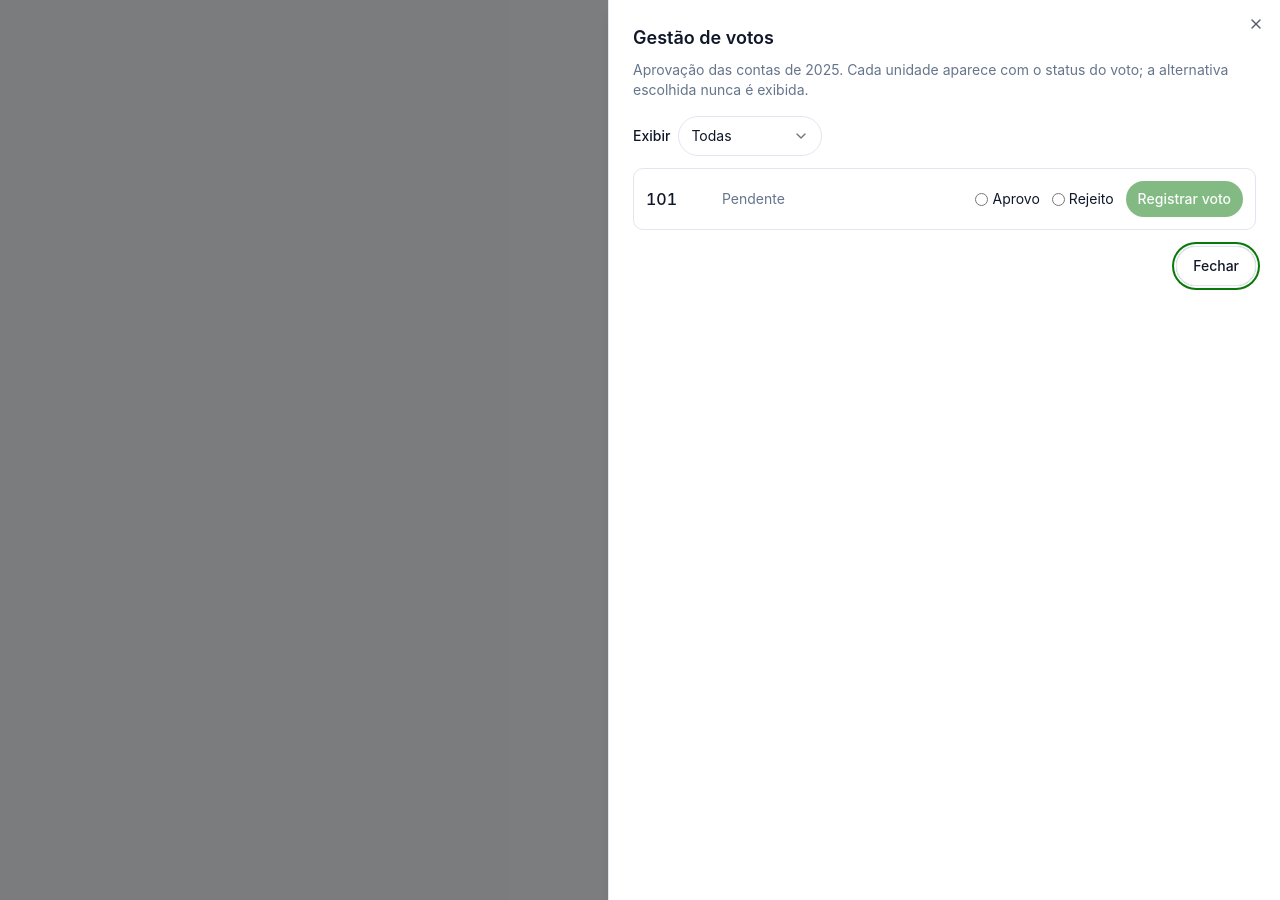
Test case: Gestão — lista de status e registro › IT-375: segundo envio para unidade ja votada mostra conflito e mantem a lista fiel
Check: the text "101" is shown, box [646,189,677,209]
Click the radio button labelled "Aprovo" at (982, 199), box [976,192,988,206]
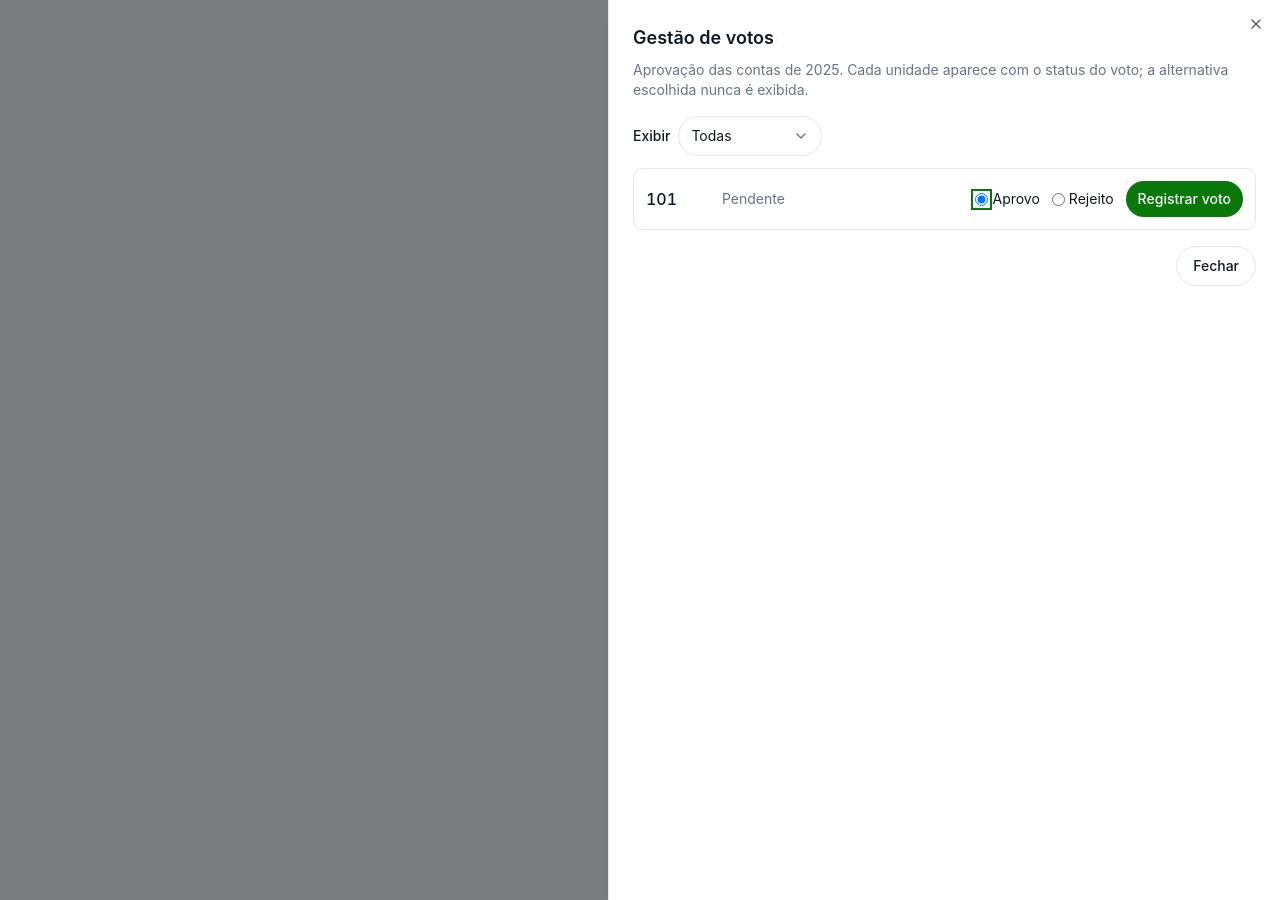
Click the button with aria-label "Registrar voto da unidade 101" at (1184, 199), box [1126,181,1243,217]
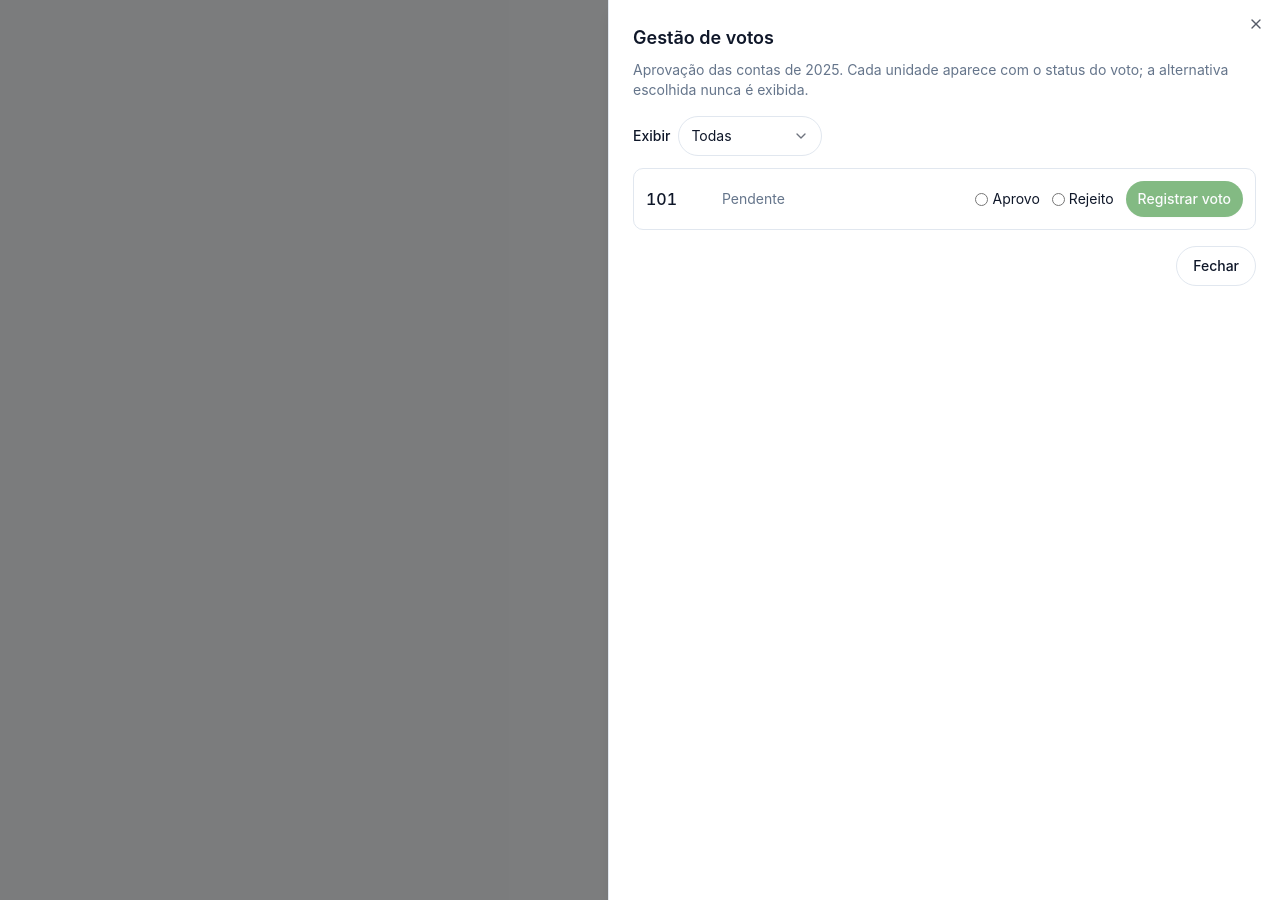
Check: the radio button with aria-label "Aprovo da unidade 101" is not checked
Click the radio button with aria-label "Aprovo da unidade 101" at (982, 199), box [976,192,988,206]
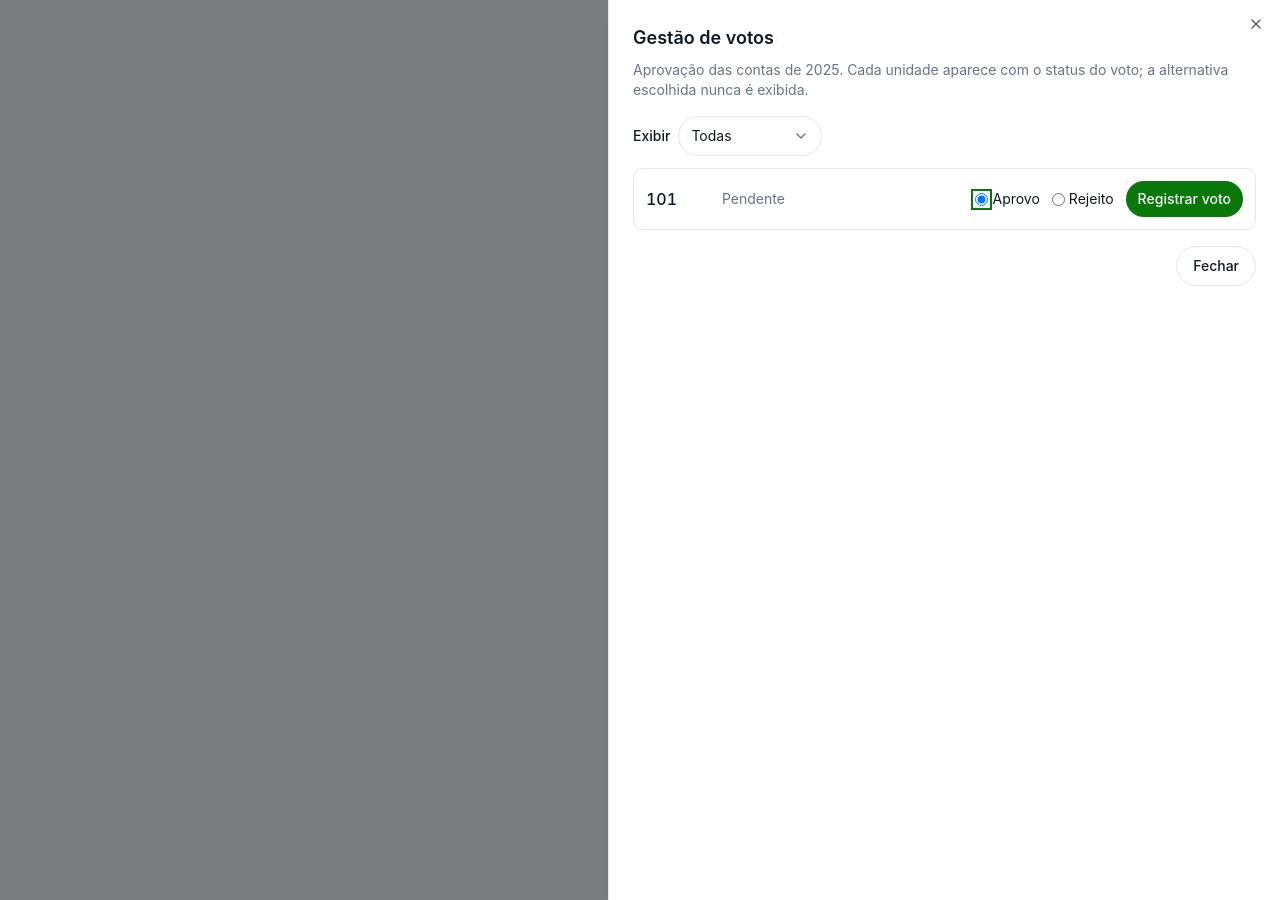
Click the button with aria-label "Registrar voto da unidade 101" at (1184, 199), box [1126,181,1243,217]
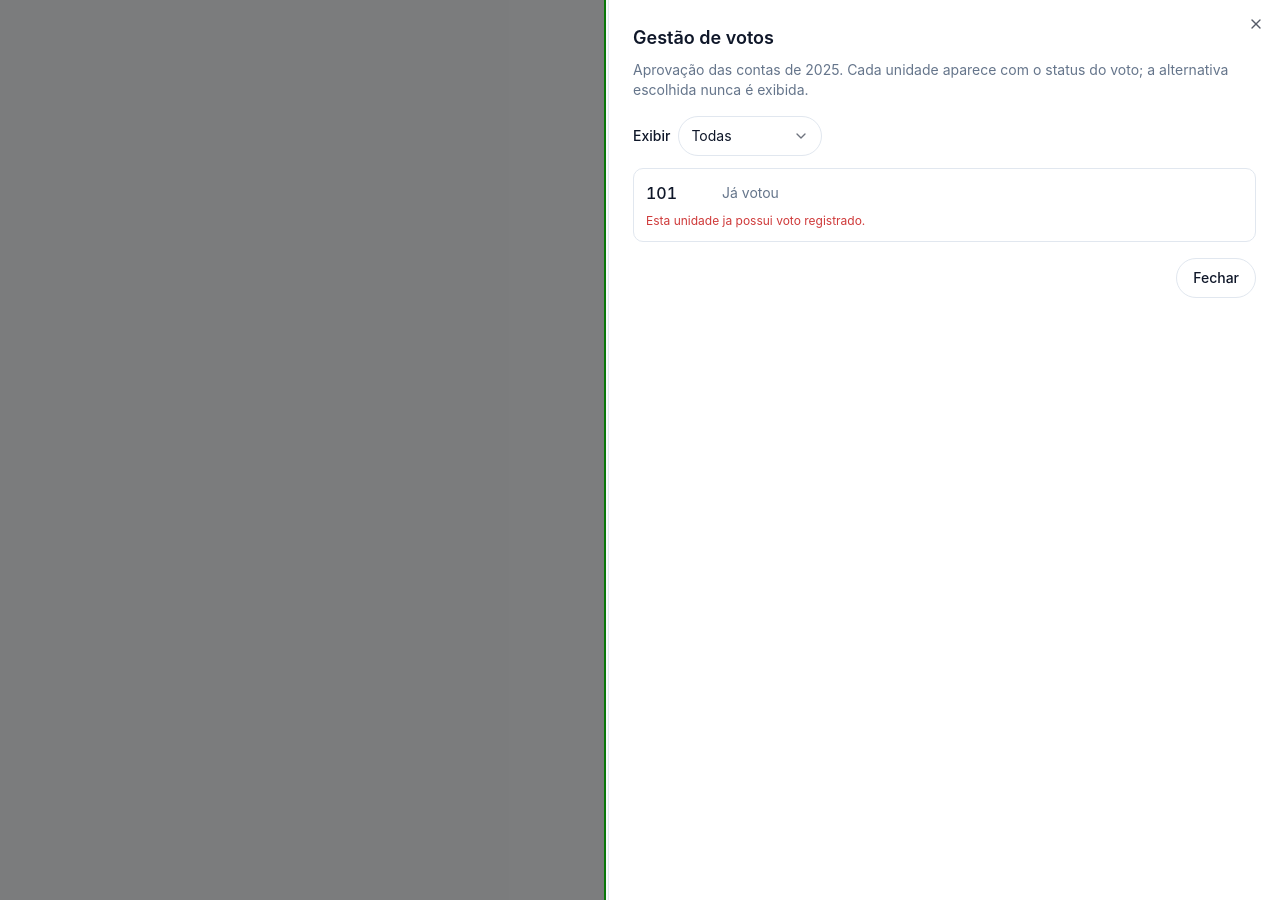
Check: the message reads "Esta unidade ja possui voto registrado.", box [646,213,865,228]
Check: the text "Já votou" is shown, box [722,183,779,203]
